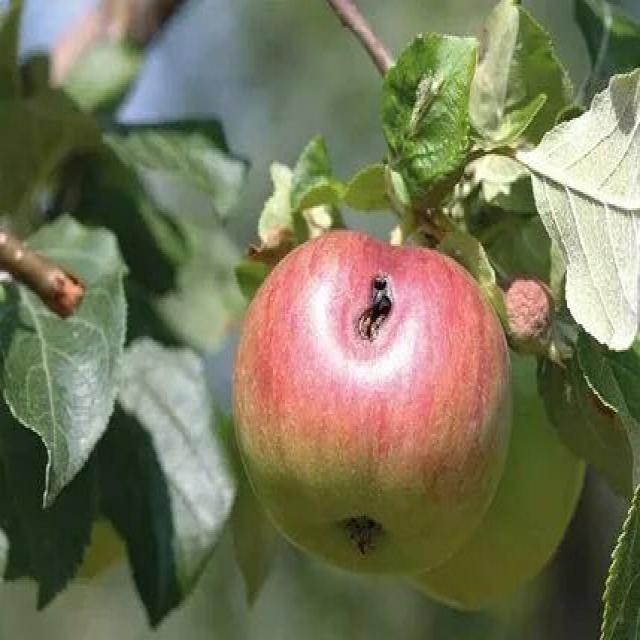Rotten: (250, 244, 503, 568)
